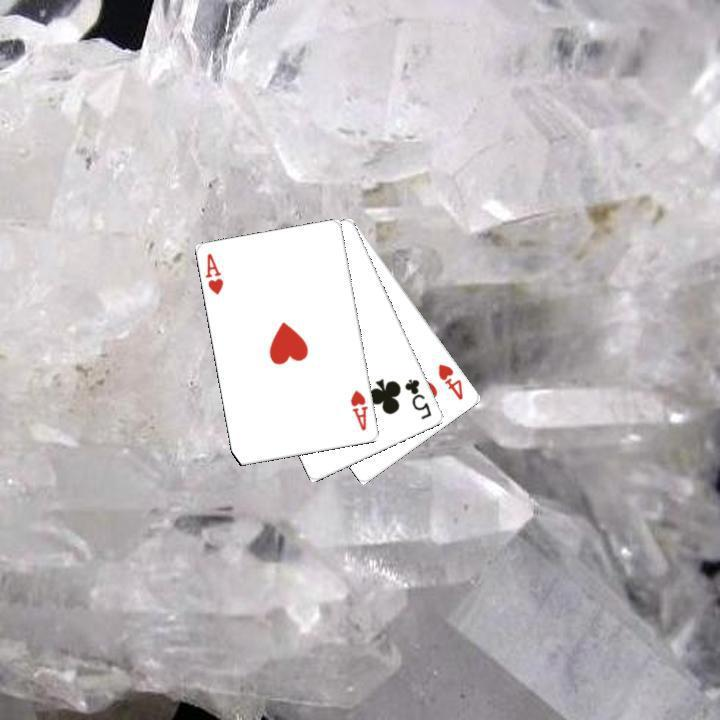4: (434, 359, 466, 402)
5: (400, 374, 434, 422)
A: (201, 249, 226, 297), (346, 386, 370, 433)
